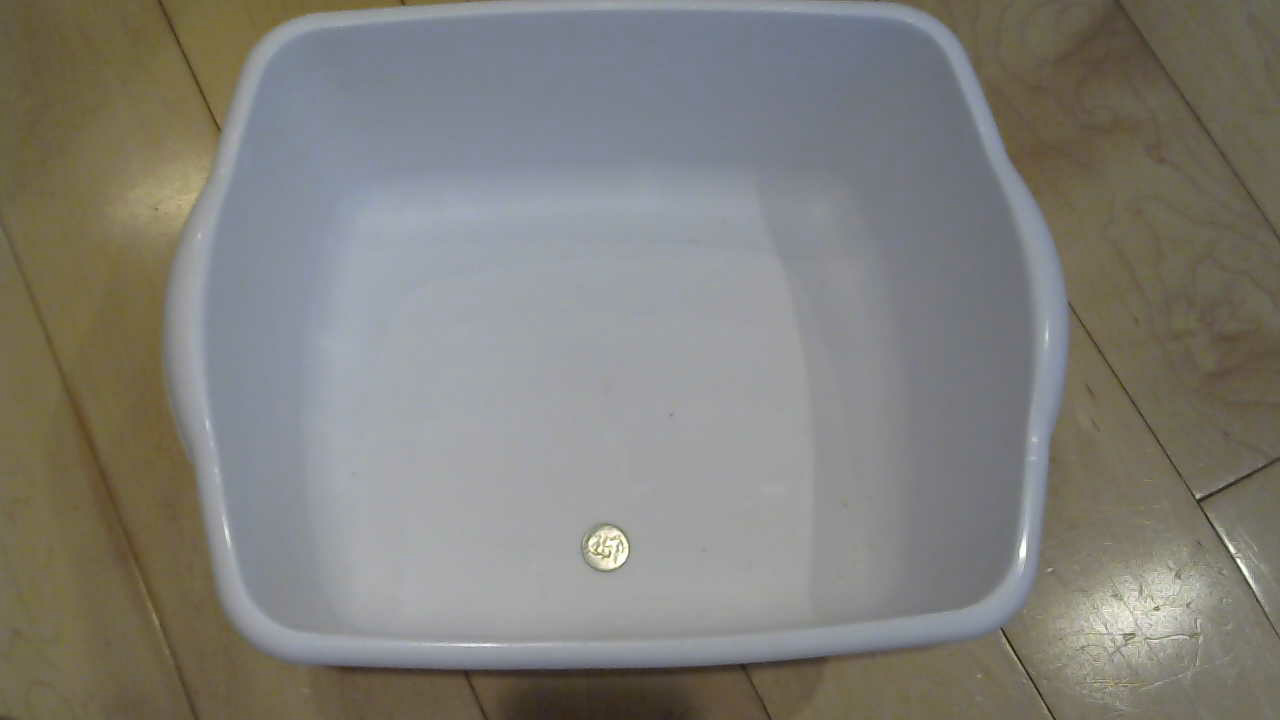coin: (570, 522, 650, 584)
